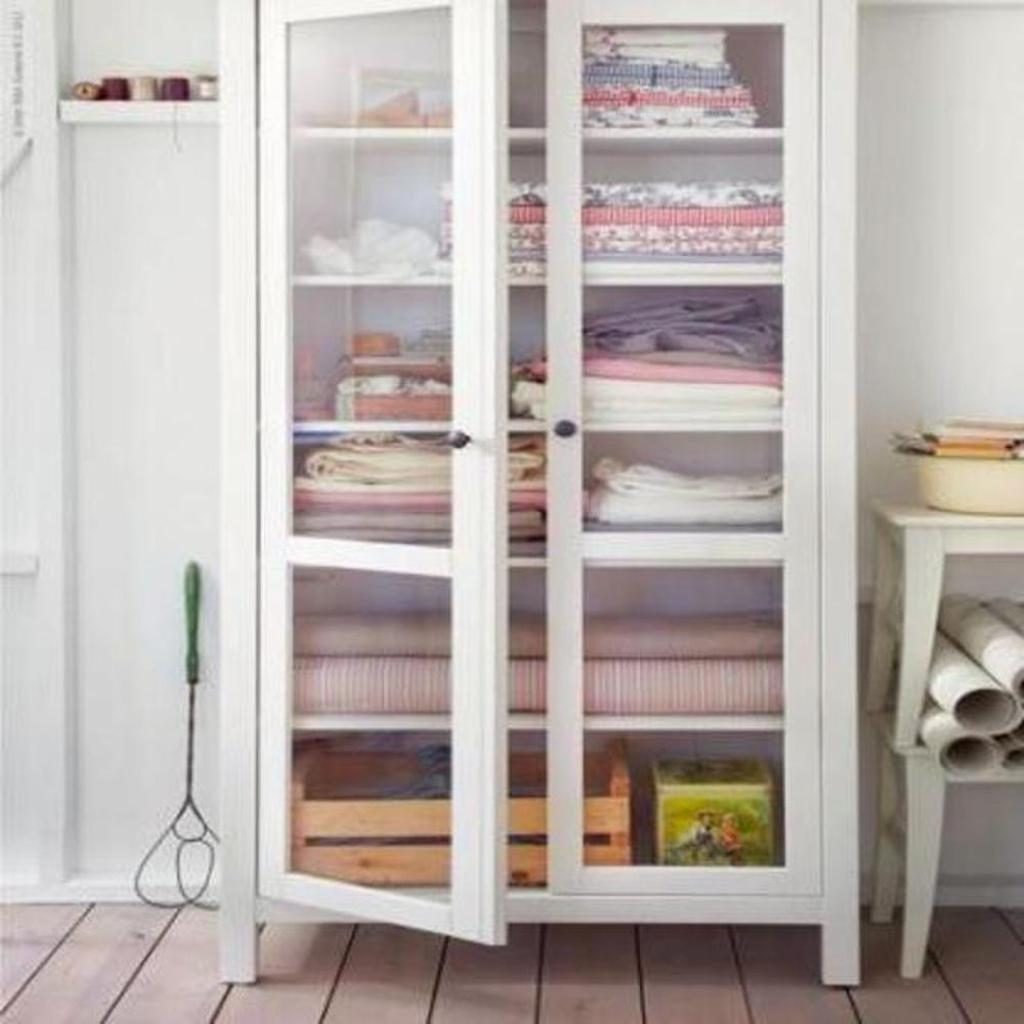lamp: (207, 1, 863, 994)
